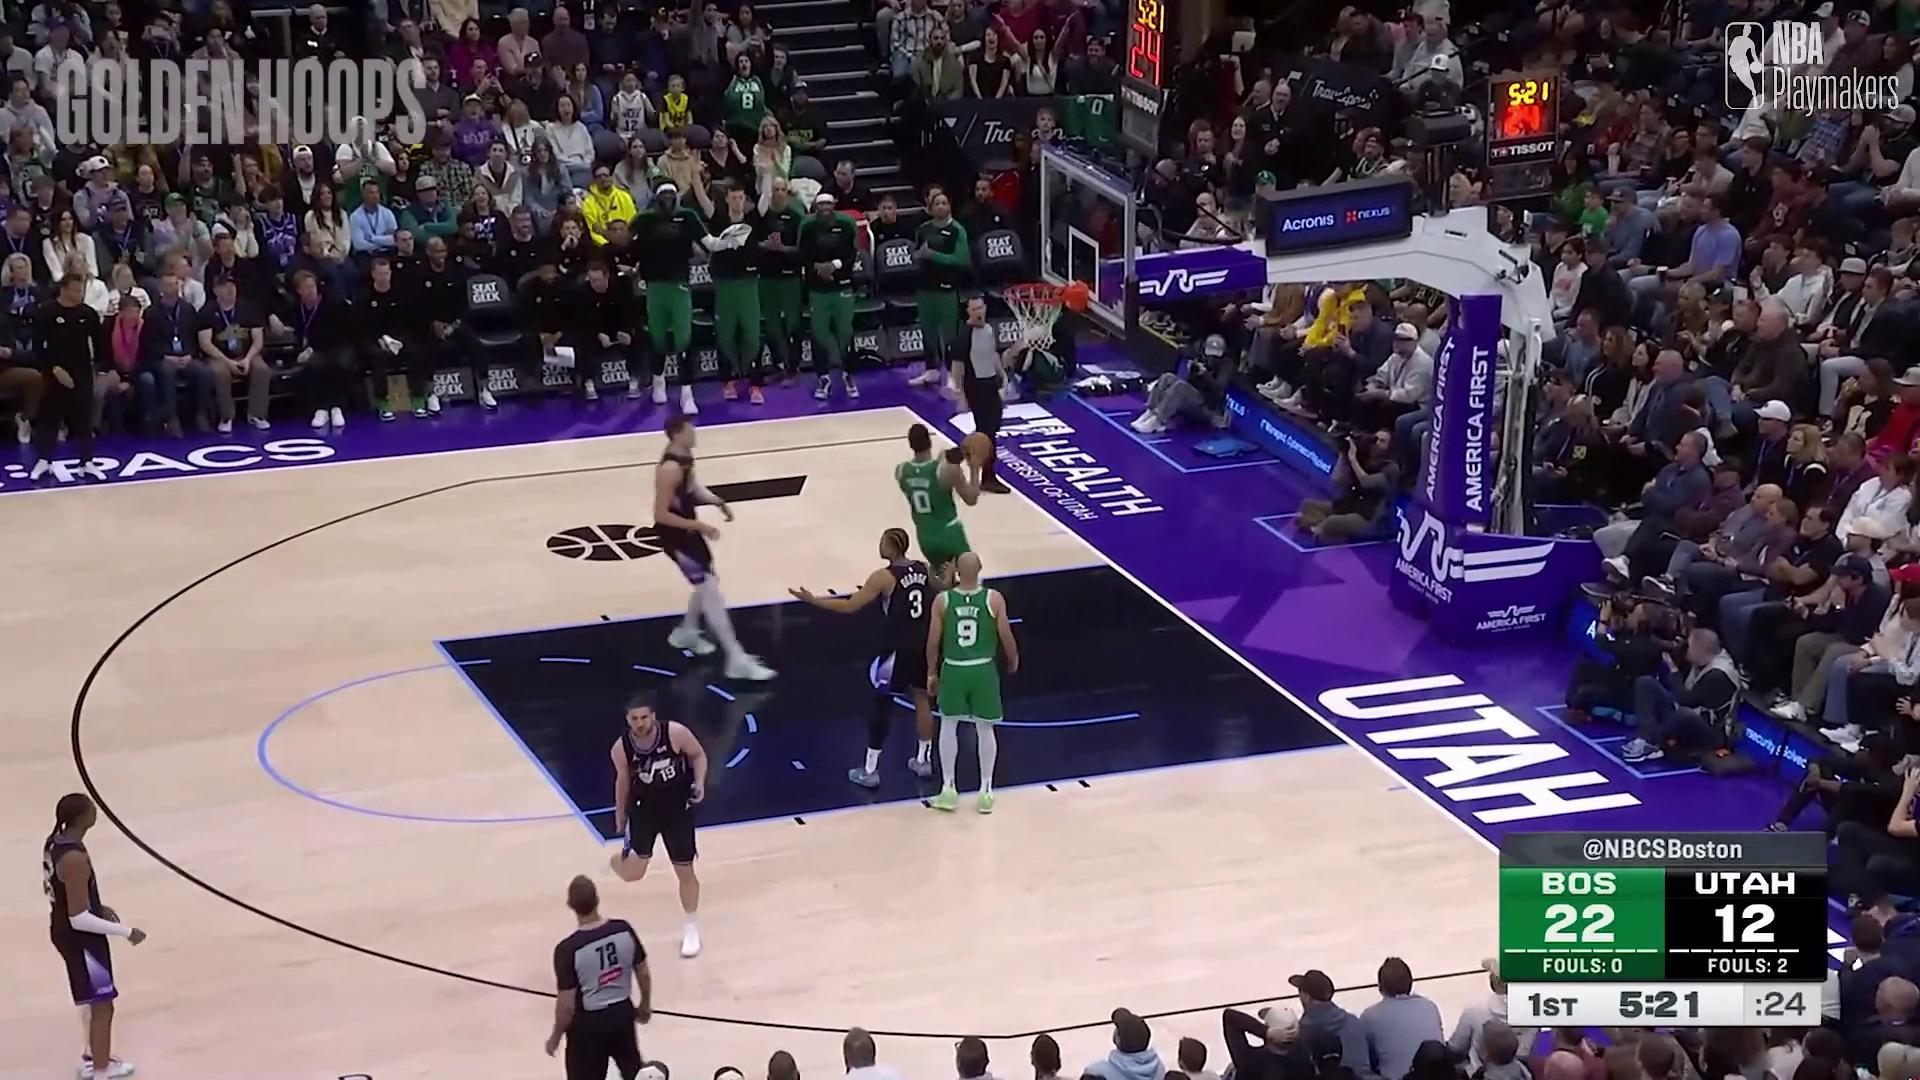ball: (963, 435, 992, 460)
hoop: (1006, 277, 1069, 345)
